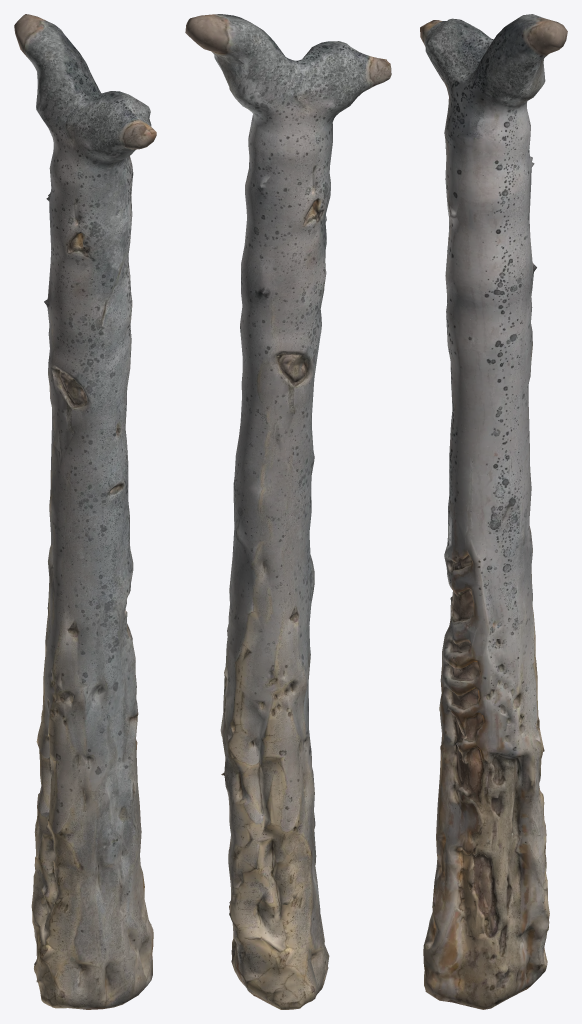
Rendered from dead_quiver_trunk.glb.
3 views of the same model, side by side, from view 1: azimuth 90°, elevation 25°; view 2: azimuth 150°, elevation 25°; view 3: azimuth 270°, elevation 25° (orthographic). The views are drawn at different scales.
Visible parts, largest first — view 1: dead_quiver_trunk_LOD0; view 2: dead_quiver_trunk_LOD0; view 3: dead_quiver_trunk_LOD0.
Boxes of the visible parts, bbox=[...] form: dead_quiver_trunk_LOD0: bbox=[14, 14, 156, 1009]; dead_quiver_trunk_LOD0: bbox=[185, 14, 391, 1009]; dead_quiver_trunk_LOD0: bbox=[420, 14, 567, 1009].
Bounding box in the file's own units: 0.3065 × 1.99 × 0.268.
Materials: 1 (1 with a texture image).
